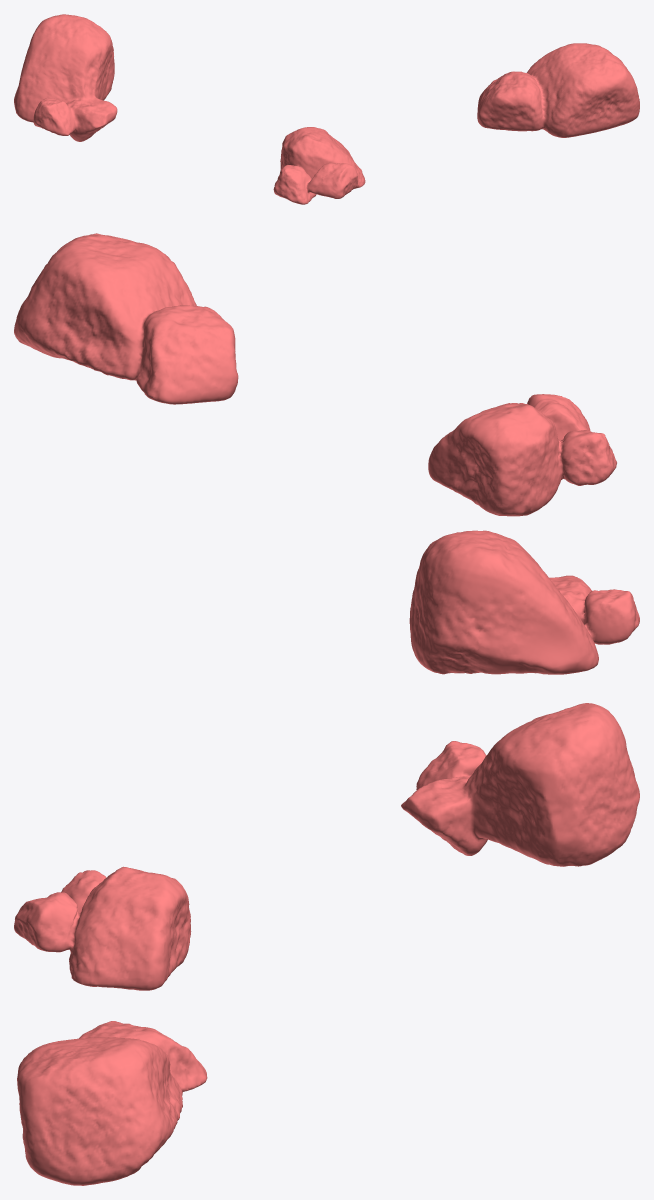
File: StoneGroup1_high.fbx
3 renders of one model, top to bottom at view 1: azimuth 30°, elevation 25°; view 2: azimuth 150°, elevation 25°; view 3: azimuth 270°, elevation 25°, orthographic. The views are drawn at different scales.
Visible parts, largest first — view 1: StoneGroup1_high; view 2: StoneGroup1_high; view 3: StoneGroup1_high.
Boxes of the visible parts, bbox=[...] form: StoneGroup1_high: bbox=[14, 14, 639, 204]; StoneGroup1_high: bbox=[14, 233, 639, 674]; StoneGroup1_high: bbox=[14, 703, 639, 1185].
Size of the model in its own units: 3.2 by 0.6429 by 2.17.
